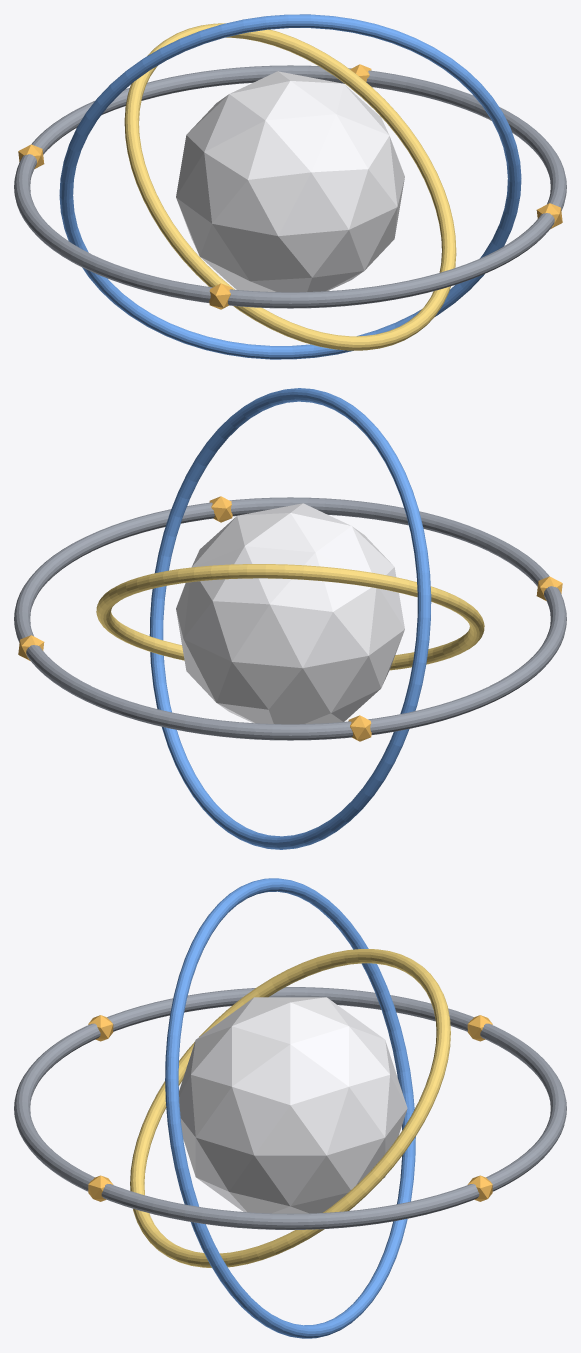
Rendered from kinetic_core.glb.
The picture shows the model from 3 angles, top to bottom: view 1: azimuth 30°, elevation 25°; view 2: azimuth 150°, elevation 25°; view 3: azimuth 270°, elevation 25°; orthographic projection.
Parts seen in each view (by area): view 1: Central_Core, Astrolabe_Outer, Gimbal_Ring_Mid, Gimbal_Ring_Inner, Satellite_Node_3; view 2: Central_Core, Astrolabe_Outer, Gimbal_Ring_Mid, Gimbal_Ring_Inner; view 3: Central_Core, Astrolabe_Outer, Gimbal_Ring_Mid, Gimbal_Ring_Inner.
Boxes of the visible parts, x1,y1,x2,y2 form: Central_Core: [176, 71, 404, 292]; Astrolabe_Outer: [14, 65, 566, 308]; Gimbal_Ring_Mid: [59, 14, 521, 359]; Gimbal_Ring_Inner: [124, 23, 456, 350]; Satellite_Node_3: [209, 283, 232, 309]; Central_Core: [176, 503, 404, 724]; Astrolabe_Outer: [14, 497, 566, 740]; Gimbal_Ring_Mid: [149, 388, 431, 849]; Gimbal_Ring_Inner: [96, 564, 484, 670]; Central_Core: [179, 997, 407, 1213]; Astrolabe_Outer: [14, 987, 566, 1229]; Gimbal_Ring_Mid: [165, 878, 415, 1338]; Gimbal_Ring_Inner: [130, 949, 450, 1267].
Size of the model in its own units: 3.4 by 2.72 by 3.4.
